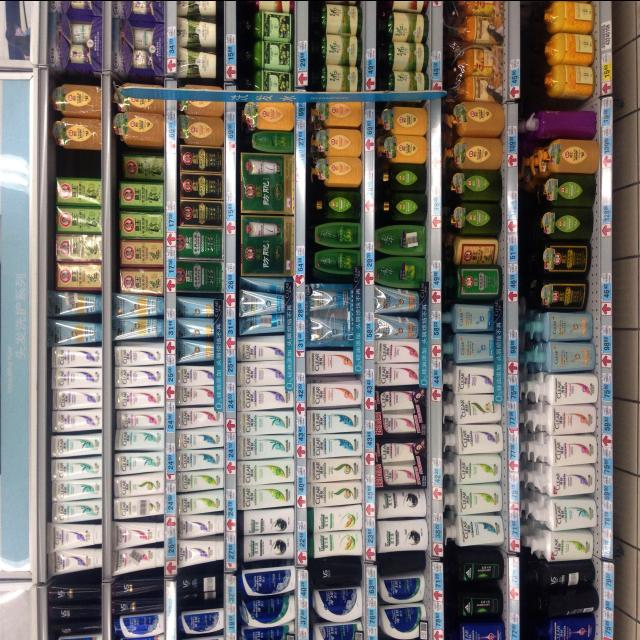empty_space: (59, 146, 102, 174)
